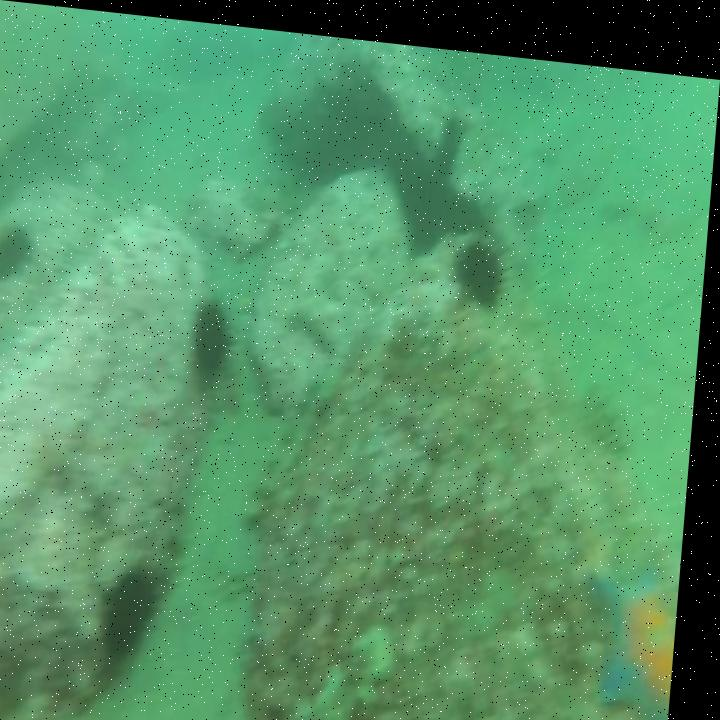echinus: (101, 550, 184, 684), (190, 283, 249, 390), (454, 214, 521, 306), (0, 219, 35, 284)
holothurian: (286, 601, 407, 720)
starfish: (592, 530, 690, 720)
